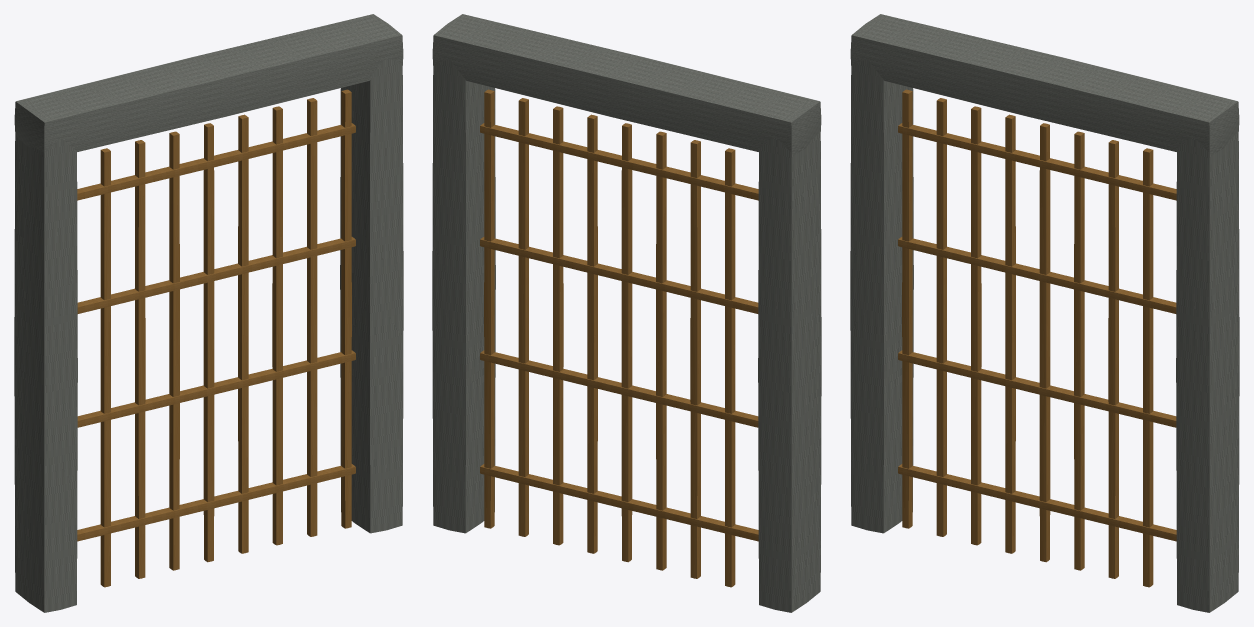
The picture shows the model from 3 angles, left to right: view 1: azimuth 30°, elevation 25°; view 2: azimuth 150°, elevation 25°; view 3: azimuth 330°, elevation 25°; orthographic projection.
Parts seen in each view (by area): view 1: stone.0, stone.1, stone.2, brass.7, brass.11, brass.10, brass.5, brass.4, brass.8, brass.6, brass.9, brass.12 (+3 smaller); view 2: stone.0, stone.1, stone.2, brass.7, brass.11, brass.10, brass.5, brass.4, brass.8, brass.6, brass.9, brass.12 (+3 smaller); view 3: stone.1, stone.0, stone.2, brass.7, brass.3, brass.4, brass.9, brass.6, brass.10, brass.8, brass.5, brass.12 (+3 smaller).
Boxes of the visible parts, box(x1,y1,x2,y2) form: stone.0: box(14, 133, 77, 612); stone.1: box(340, 58, 403, 533); stone.2: box(14, 14, 403, 153); brass.7: box(203, 123, 214, 562); brass.11: box(341, 89, 351, 528); brass.10: box(307, 98, 317, 536); brass.5: box(135, 140, 145, 578); brass.4: box(100, 148, 110, 587); brass.8: box(238, 114, 248, 553); brass.6: box(169, 131, 179, 570); brass.9: box(272, 106, 282, 545); brass.12: box(77, 464, 355, 541); stone.0: box(758, 132, 821, 612); stone.1: box(432, 59, 495, 533); stone.2: box(432, 14, 821, 155); brass.7: box(621, 123, 632, 562); brass.11: box(484, 89, 494, 528); brass.10: box(518, 98, 528, 536); brass.5: box(690, 140, 700, 578); brass.4: box(725, 148, 735, 587); brass.8: box(587, 114, 597, 553); brass.6: box(656, 131, 666, 570); brass.9: box(553, 106, 563, 545); brass.12: box(480, 464, 758, 541); stone.1: box(1176, 132, 1239, 612); stone.0: box(850, 59, 913, 533); stone.2: box(850, 14, 1239, 155); brass.7: box(1039, 123, 1050, 562); brass.3: box(902, 89, 912, 528); brass.4: box(936, 98, 946, 536); brass.9: box(1108, 140, 1118, 578); brass.6: box(1005, 114, 1015, 553); brass.10: box(1143, 148, 1153, 587); brass.8: box(1074, 131, 1084, 570); brass.5: box(971, 106, 981, 545); brass.12: box(898, 464, 1176, 541).
Size of the model in its own units: 2 by 2.61 by 0.3.
2 materials, 2 textured.
